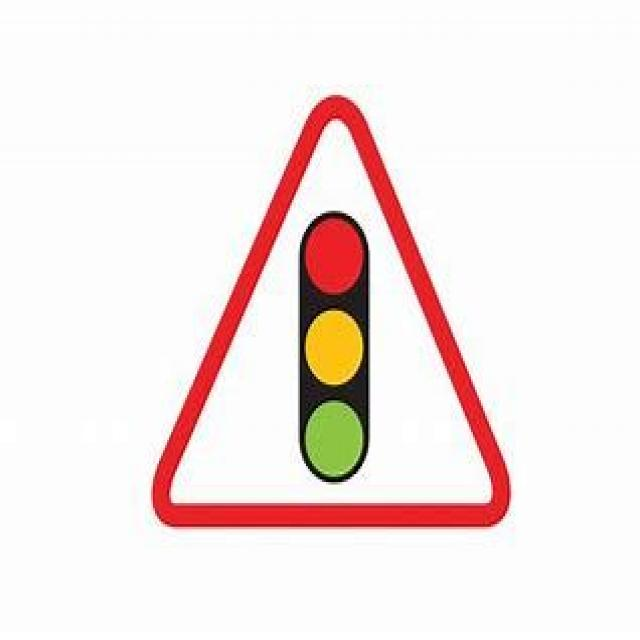TRAFFIC_SIGNAL: (149, 87, 509, 529)
